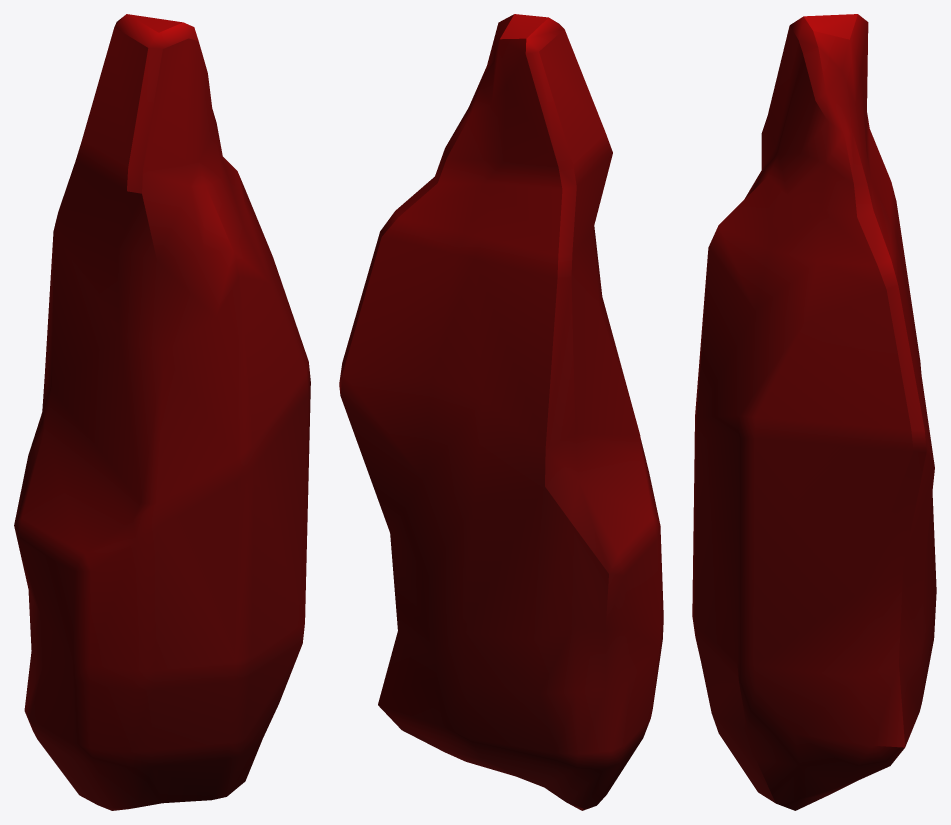
Rendered from geology-carvedstone-monolith_v1.fbx.
3 renders of one model, left to right at view 1: azimuth 30°, elevation 25°; view 2: azimuth 150°, elevation 25°; view 3: azimuth 270°, elevation 25°, orthographic.
Visible parts, largest first — view 1: Monolith_v1; view 2: Monolith_v1; view 3: Monolith_v1.
Part boxes in pixels (<box>): Monolith_v1: <box>14,14,310,810</box>; Monolith_v1: <box>339,14,663,810</box>; Monolith_v1: <box>692,14,936,810</box>.
Size of the model in its own units: 2.53 by 7.1 by 2.06.
